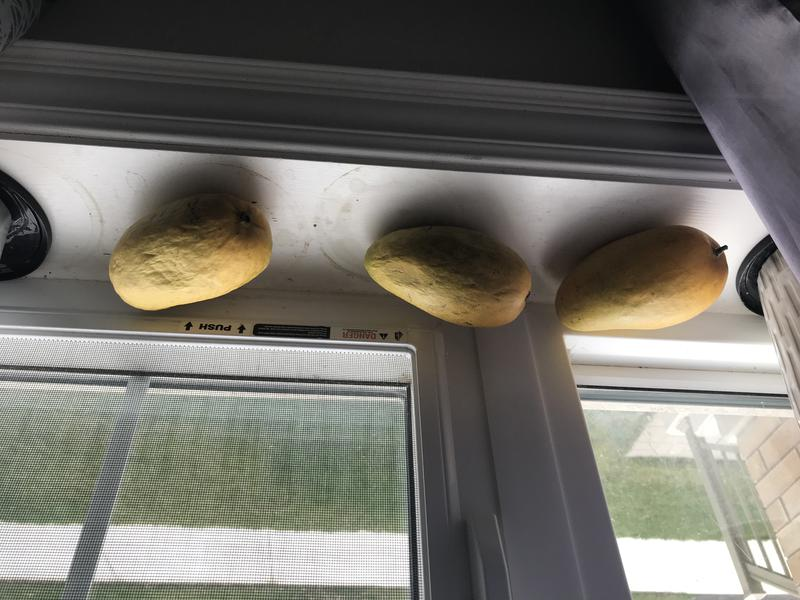mango: (553, 213, 736, 353), (359, 215, 536, 355), (104, 186, 278, 327)
